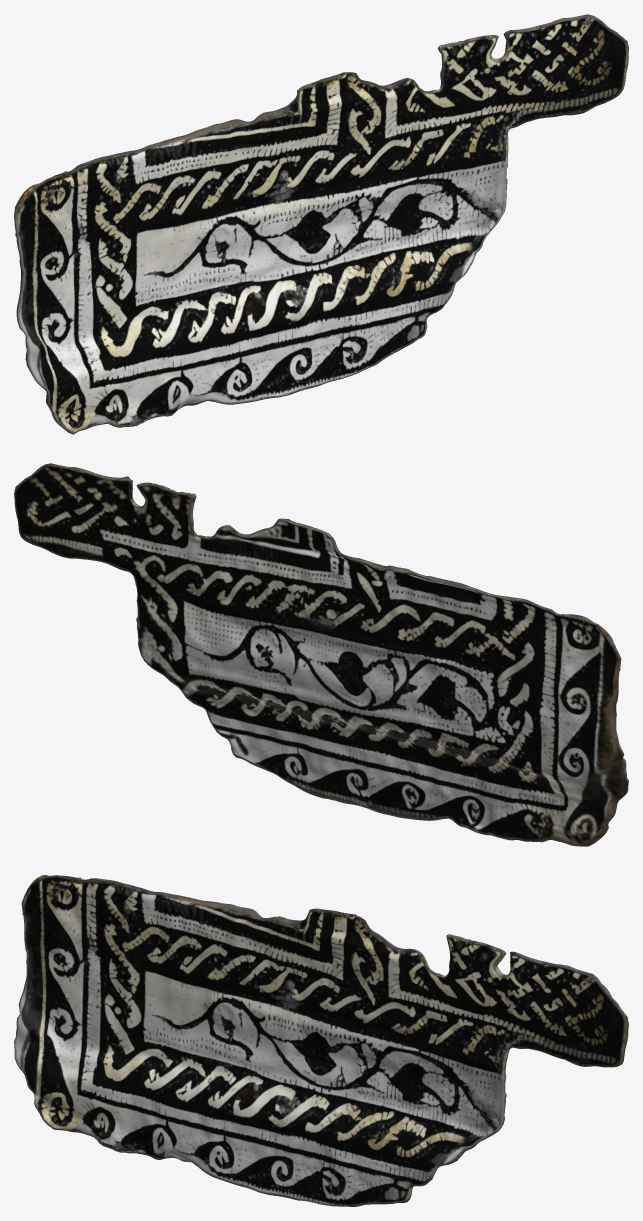
File: primary.glb
3 views of the same model, one above another, from view 1: azimuth 30°, elevation 25°; view 2: azimuth 150°, elevation 25°; view 3: azimuth 330°, elevation 25° (orthographic). The views are drawn at different scales.
Bounding box in the file's own units: 2 × 0.9152 × 0.1348.
1 material, 1 textured.
